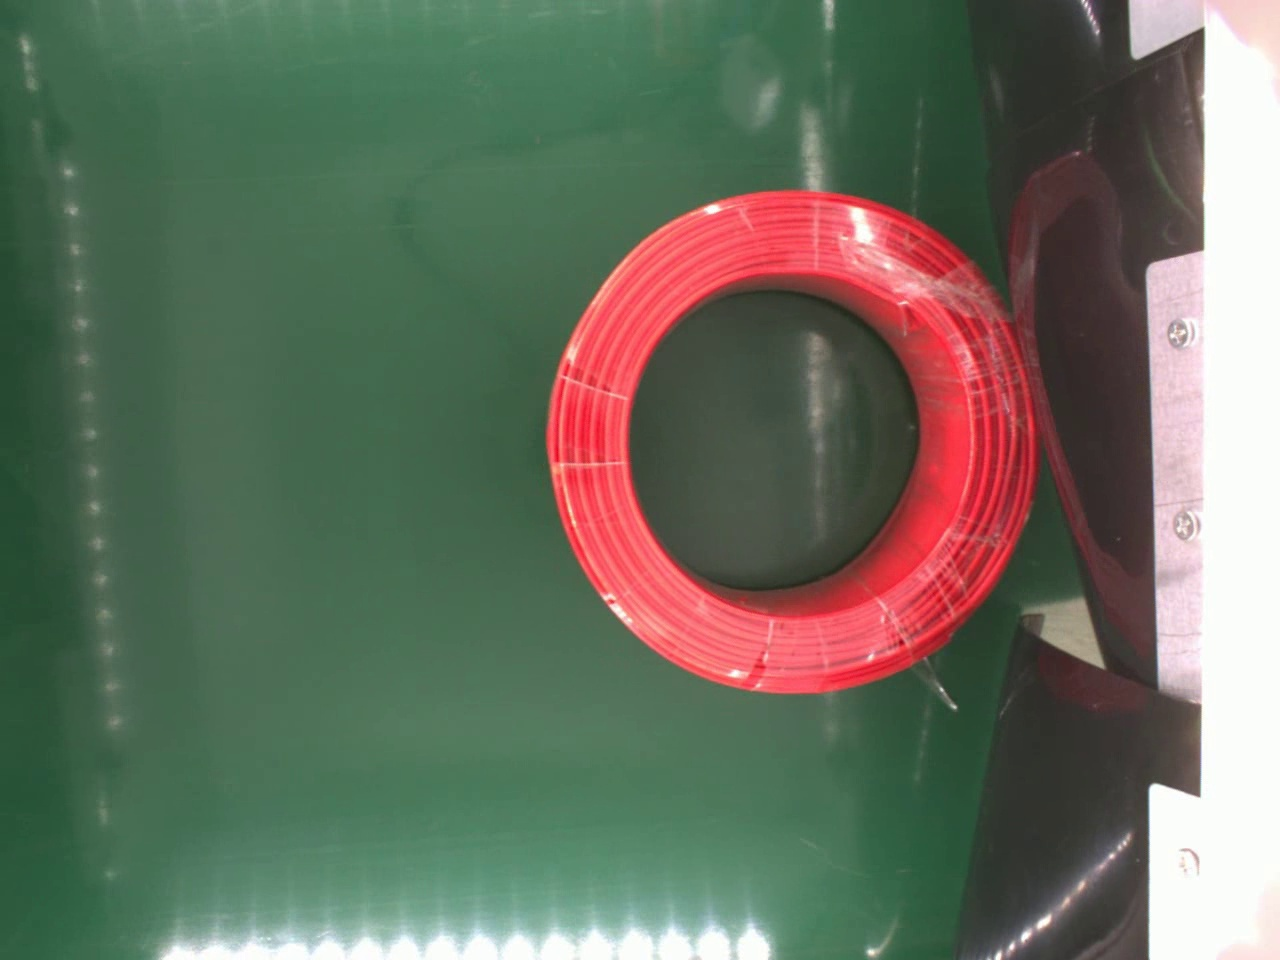red: (542, 186, 1042, 694)
